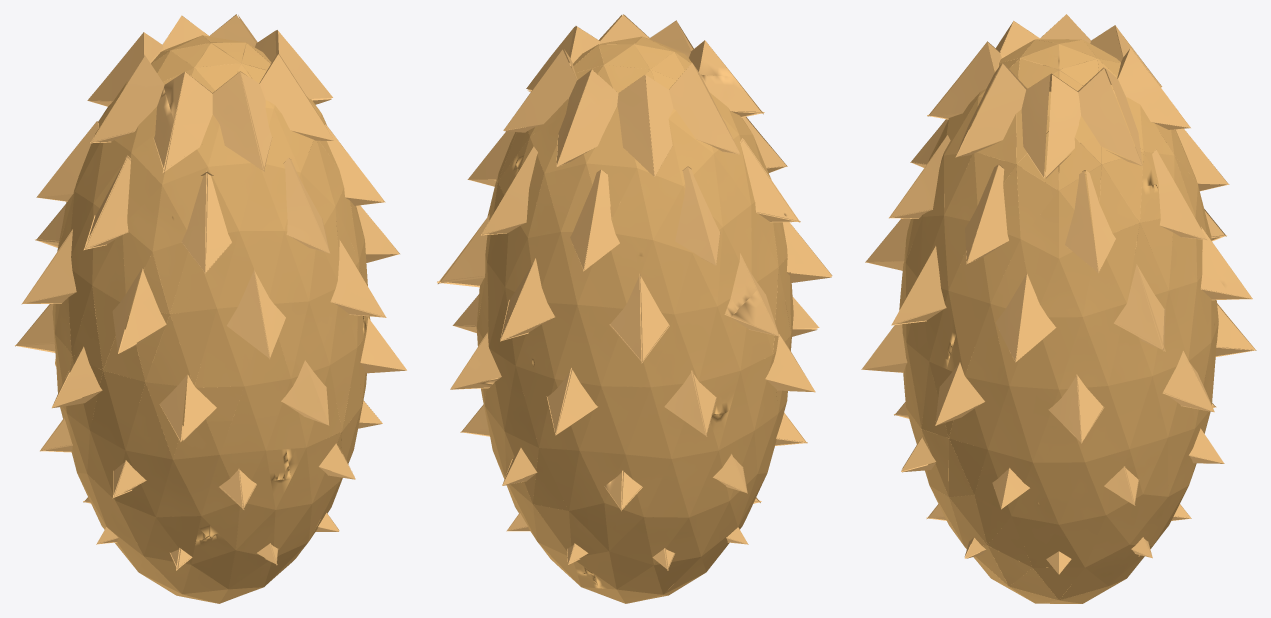
Rendered from xmas_pinecone.glb.
3 views of the same model, side by side, from view 1: azimuth 30°, elevation 25°; view 2: azimuth 150°, elevation 25°; view 3: azimuth 270°, elevation 25° (orthographic).
Parts seen in each view (by area): view 1: Pinecone; view 2: Pinecone; view 3: Pinecone.
Part boxes in pixels (bbox=[...]): Pinecone: bbox=[15, 14, 406, 603]; Pinecone: bbox=[437, 14, 832, 603]; Pinecone: bbox=[861, 14, 1256, 603].
Size of the model in its own units: 1.23 by 1.9 by 1.23.
